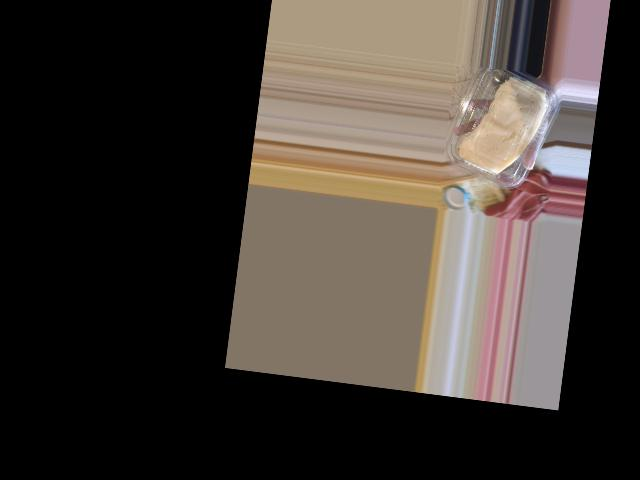cheese: (444, 63, 557, 194)
